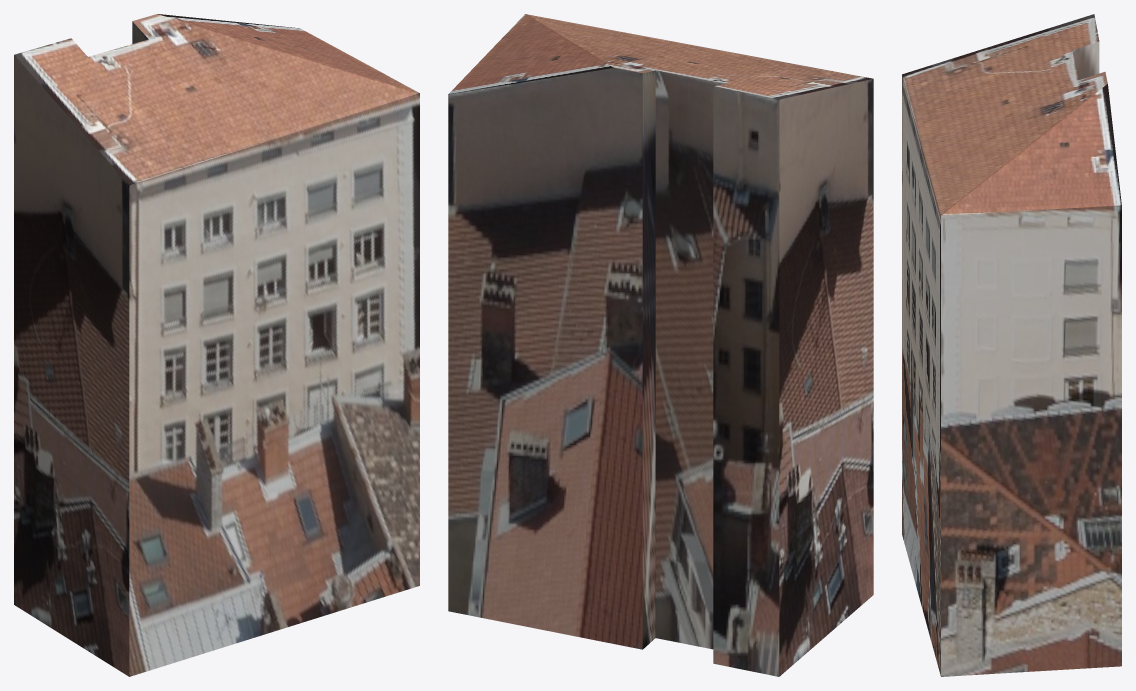
3 views of the same model, side by side, from view 1: azimuth 30°, elevation 25°; view 2: azimuth 150°, elevation 25°; view 3: azimuth 270°, elevation 25° (orthographic). The views are drawn at different scales.
Visible parts, largest first — view 1: Z_UP; view 2: Z_UP; view 3: Z_UP.
Part boxes in pixels (x1,y1,x2,y2): Z_UP: (14,14,419,676); Z_UP: (448,14,873,676); Z_UP: (902,14,1121,676).
Size of the model in its own units: 15.72 by 25.51 by 9.87.
Materials: 2 (1 with a texture image).
